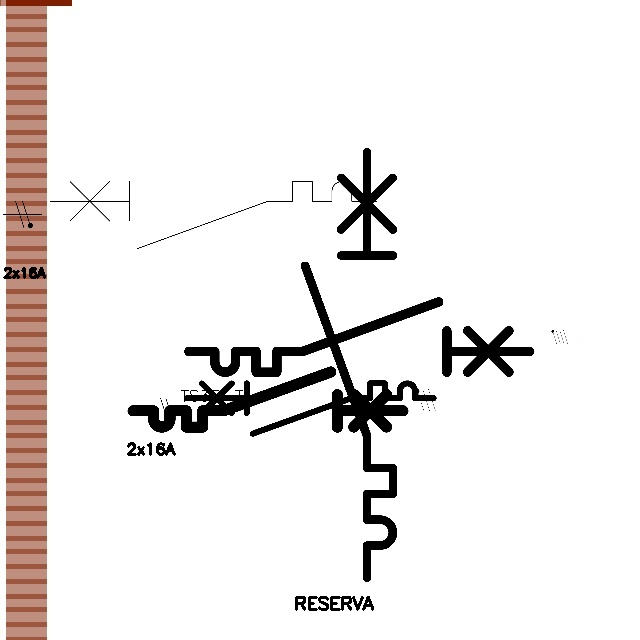interruptor_termomagnetico: (294, 141, 404, 589), (180, 293, 539, 381), (41, 173, 384, 257), (126, 365, 410, 434), (180, 377, 440, 440)
